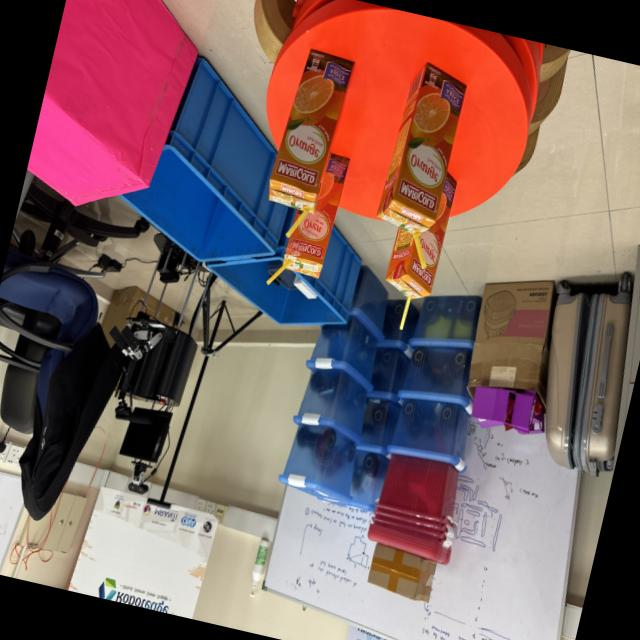drink_carton: (363, 52, 486, 273), (252, 38, 360, 248), (368, 157, 472, 346), (260, 140, 359, 305)
